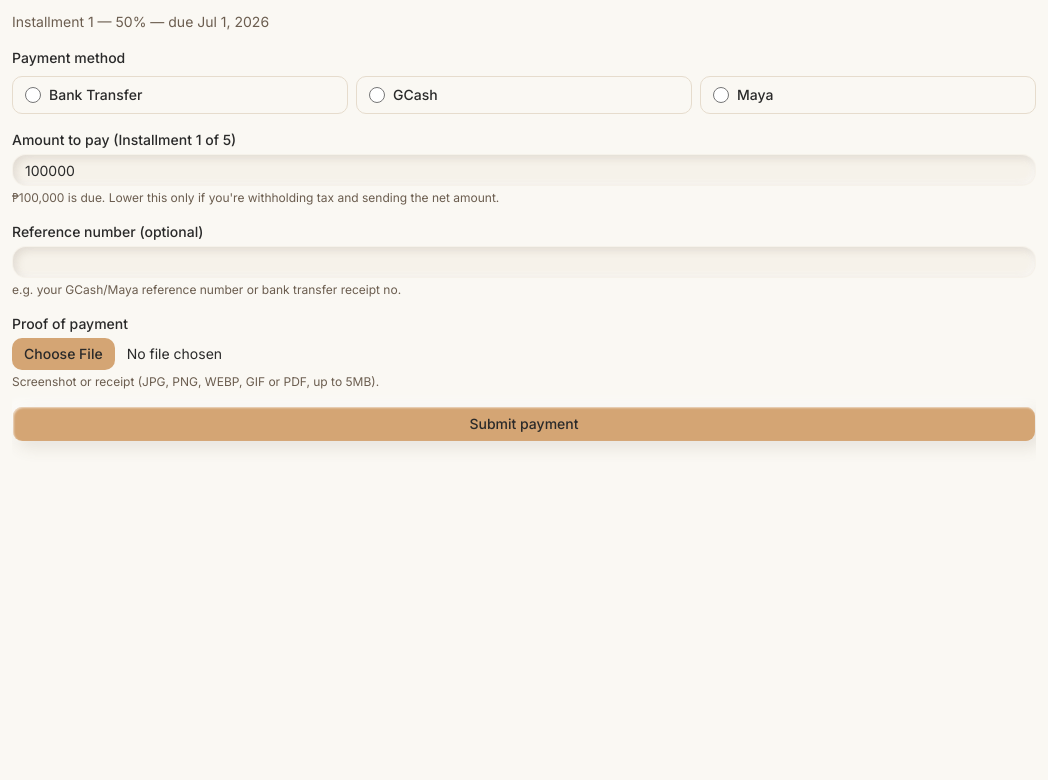
PaymentForm — where to send the money › reveals the bank account details when bank transfer is selected
The width and height of the screenshot is (1048, 780).
Click the radio button labelled "Bank Transfer" at (33, 95), box [25,87,41,103]
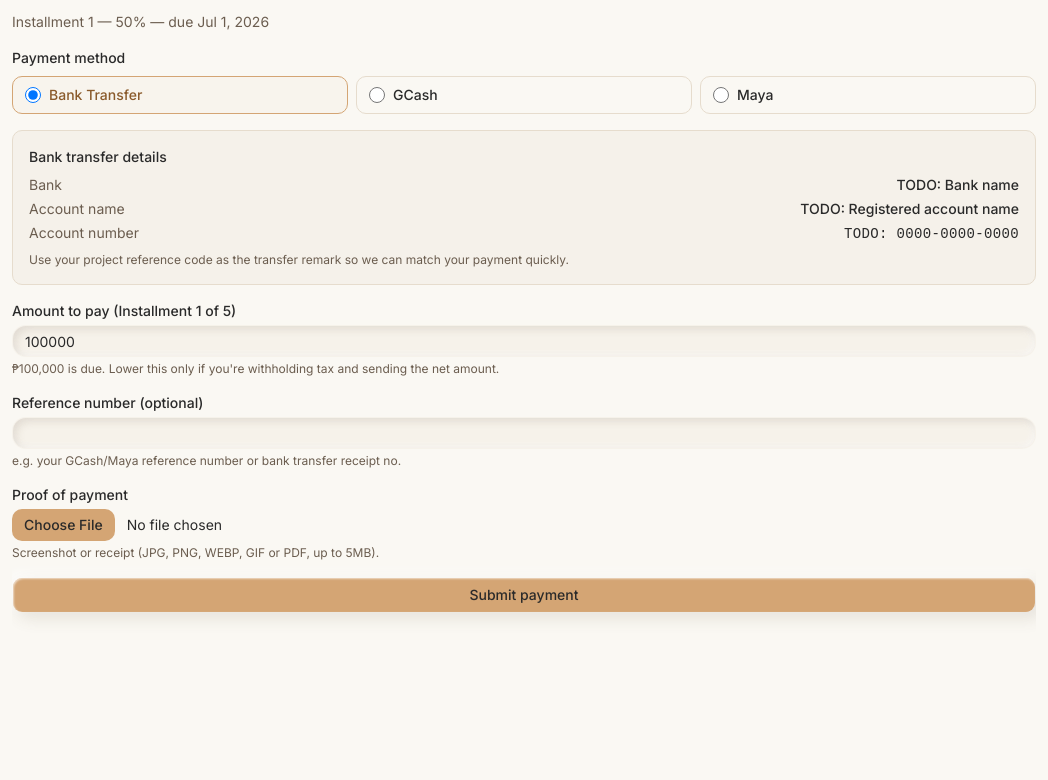
Expected: the heading "Bank transfer details" is shown, [29,148,167,165]
Expected: the text "Bank" is shown, [29,175,62,195]
Expected: the text "TODO: Bank name" is shown, [897,175,1019,195]
